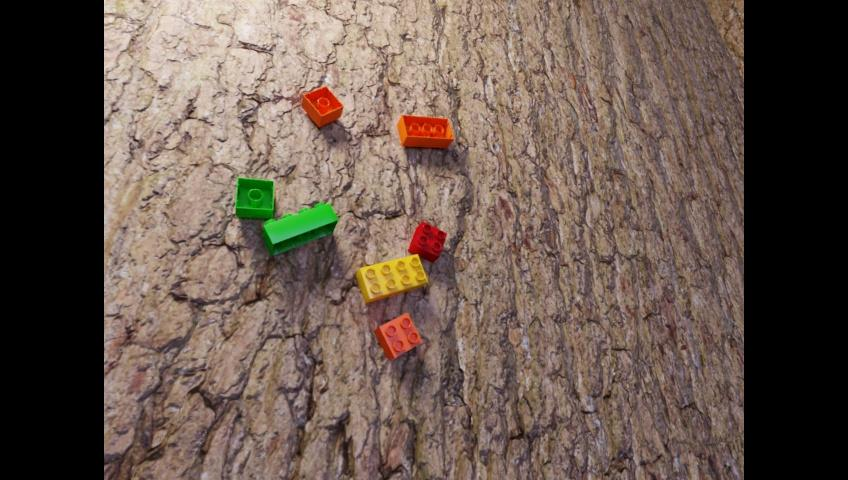2x2_green: (235, 176, 273, 218)
2x2_orange: (374, 312, 421, 360), (301, 85, 343, 126)
2x2_red: (407, 220, 446, 262)
4x2_green: (263, 202, 337, 256)
4x2_orange: (396, 114, 453, 147)
4x2_yellow: (355, 253, 426, 303)
